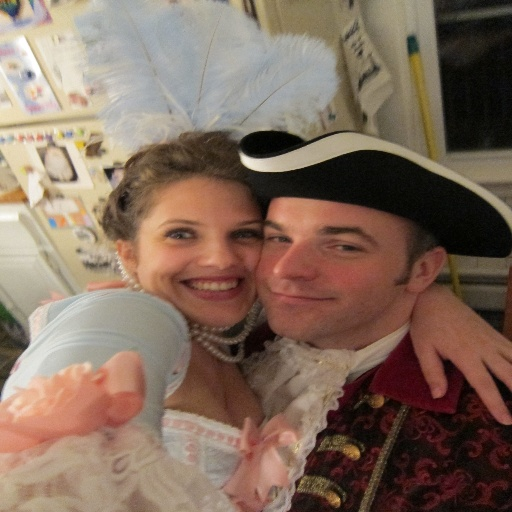hand: (407, 257, 507, 426)
